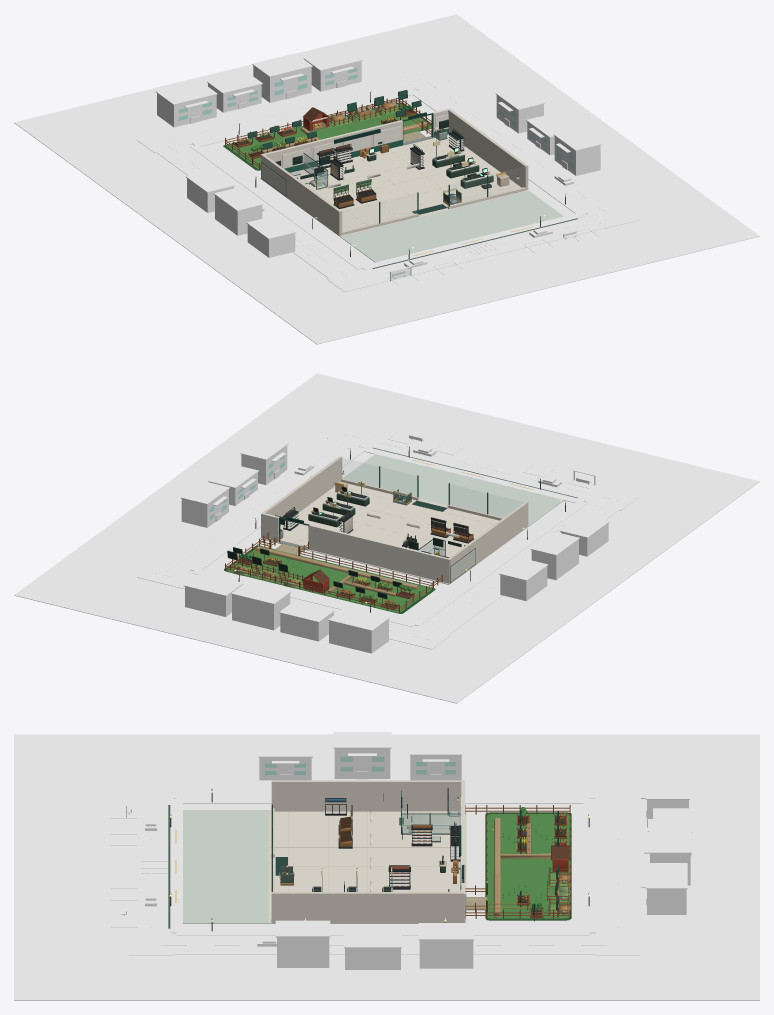
Rendered from level30.glb.
3 views of the same model, one above another, from view 1: azimuth 30°, elevation 25°; view 2: azimuth 150°, elevation 25°; view 3: azimuth 270°, elevation 25° (orthographic). The views are drawn at different scales.
Parts seen in each view (by area): view 1: cell:0:-1, cell:3:-1, cell:0:2, cell:0:3, cell:0:-5, cell:-4:-1, cell:0:-2, cell:0:-3, cell:0:-6, cell:-3:-6, cell:3:1, cell:-4:1 (+13 smaller); view 2: cell:0:-1, cell:3:-1, cell:0:2, cell:0:3, cell:0:-2, cell:-4:-1, cell:0:-3, cell:-3:-6, cell:0:-6, cell:0:-4, cell:1:-6, cell:3:-2 (+13 smaller); view 3: cell:0:-1, cell:0:2, cell:3:-1, cell:0:3, cell:0:-5, cell:-4:-1, cell:0:-3, cell:3:1, cell:0:-4, cell:3:-2, cell:-4:0, cell:-4:1 (+14 smaller).
Part boxes in pixels (left/top/right/bottom): cell:0:-1: left=14, top=14, right=759, bottom=344; cell:3:-1: left=399, top=68, right=637, bottom=228; cell:0:2: left=340, top=191, right=563, bottom=262; cell:0:3: left=326, top=206, right=639, bottom=291; cell:0:-5: left=137, top=68, right=449, bottom=153; cell:-4:-1: left=139, top=131, right=377, bottom=291; cell:0:-2: left=178, top=67, right=573, bottom=177; cell:0:-3: left=223, top=102, right=431, bottom=170; cell:0:-6: left=252, top=53, right=312, bottom=102; cell:-3:-6: left=155, top=80, right=217, bottom=127; cell:3:1: left=553, top=128, right=601, bottom=185; cell:-4:1: left=246, top=216, right=325, bottom=257; cell:0:-1: left=14, top=373, right=759, bottom=703; cell:3:-1: left=139, top=425, right=377, bottom=585; cell:0:2: left=343, top=454, right=564, bottom=525; cell:0:3: left=326, top=425, right=639, bottom=510; cell:0:-2: left=209, top=455, right=449, bottom=583; cell:-4:-1: left=399, top=489, right=637, bottom=648; cell:0:-3: left=224, top=545, right=435, bottom=613; cell:-3:-6: left=328, top=607, right=389, bottom=653; cell:0:-6: left=231, top=580, right=291, bottom=630; cell:0:-4: left=192, top=563, right=414, bottom=626; cell:1:-6: left=183, top=573, right=243, bottom=616; cell:3:-2: left=180, top=481, right=241, bottom=527; cell:0:-1: left=14, top=734, right=759, bottom=1000; cell:0:2: left=183, top=810, right=268, bottom=923; cell:3:-1: left=128, top=930, right=639, bottom=969; cell:0:3: left=128, top=778, right=182, bottom=955; cell:0:-5: left=595, top=778, right=649, bottom=955; cell:-4:-1: left=128, top=779, right=639, bottom=798; cell:0:-3: left=485, top=812, right=571, bottom=920; cell:3:1: left=257, top=920, right=330, bottom=967; cell:0:-4: left=547, top=800, right=596, bottom=933; cell:3:-2: left=418, top=923, right=474, bottom=968; cell:-4:0: left=333, top=732, right=391, bottom=779; cell:-4:1: left=246, top=740, right=312, bottom=795.
Bounding box in the file's own units: 324 × 22.03 × 384.
7 materials, 7 textured.
